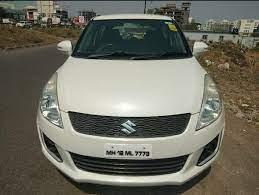Hatchback: (33, 13, 227, 192)
